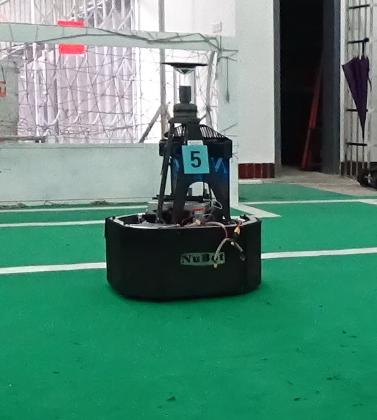robot: (103, 58, 264, 302)
